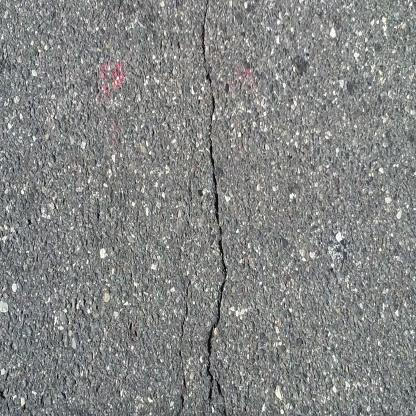Cracks: (193, 0, 245, 416)
